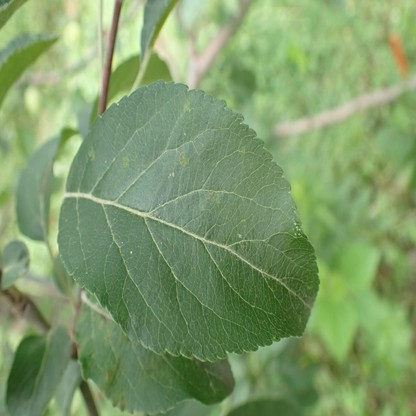scab: (140, 356, 173, 385), (93, 308, 115, 329), (118, 330, 133, 354), (111, 391, 127, 412), (104, 359, 116, 383), (206, 187, 220, 205), (178, 151, 188, 168), (102, 331, 112, 348), (192, 356, 204, 369), (87, 145, 95, 162), (121, 154, 129, 167), (183, 100, 190, 113), (240, 145, 246, 155)
